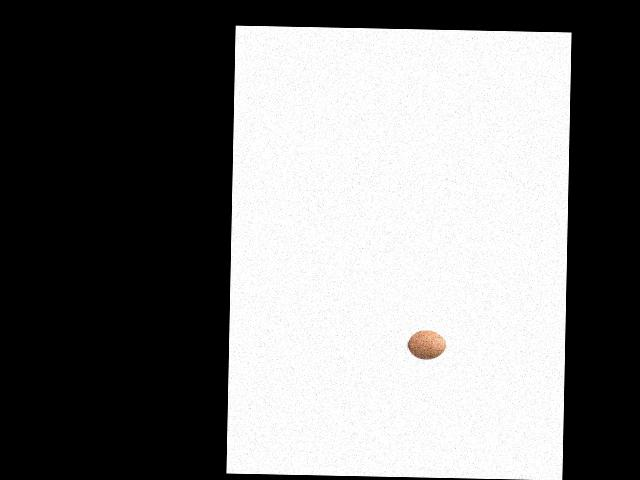egg: (407, 330, 445, 360)
